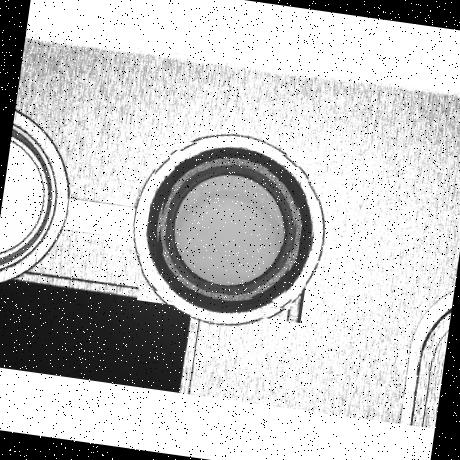Hole: (136, 137, 324, 323)
Hole2: (150, 148, 310, 310)
Hole3: (157, 156, 302, 302)
Hole4: (168, 168, 292, 292)
